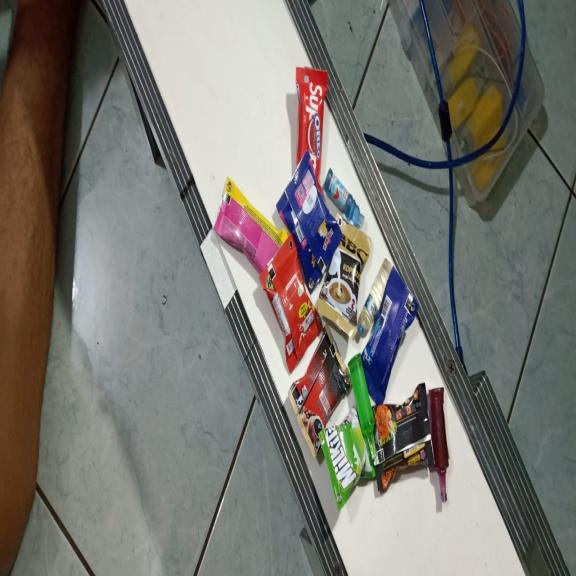Plastik: (276, 152, 343, 295), (258, 234, 323, 374), (288, 325, 352, 461), (214, 176, 288, 288), (361, 266, 419, 404), (316, 212, 372, 341), (372, 382, 436, 490), (318, 402, 376, 512), (295, 67, 328, 197), (348, 354, 377, 459), (359, 258, 392, 335), (324, 168, 364, 228), (429, 387, 449, 503)
